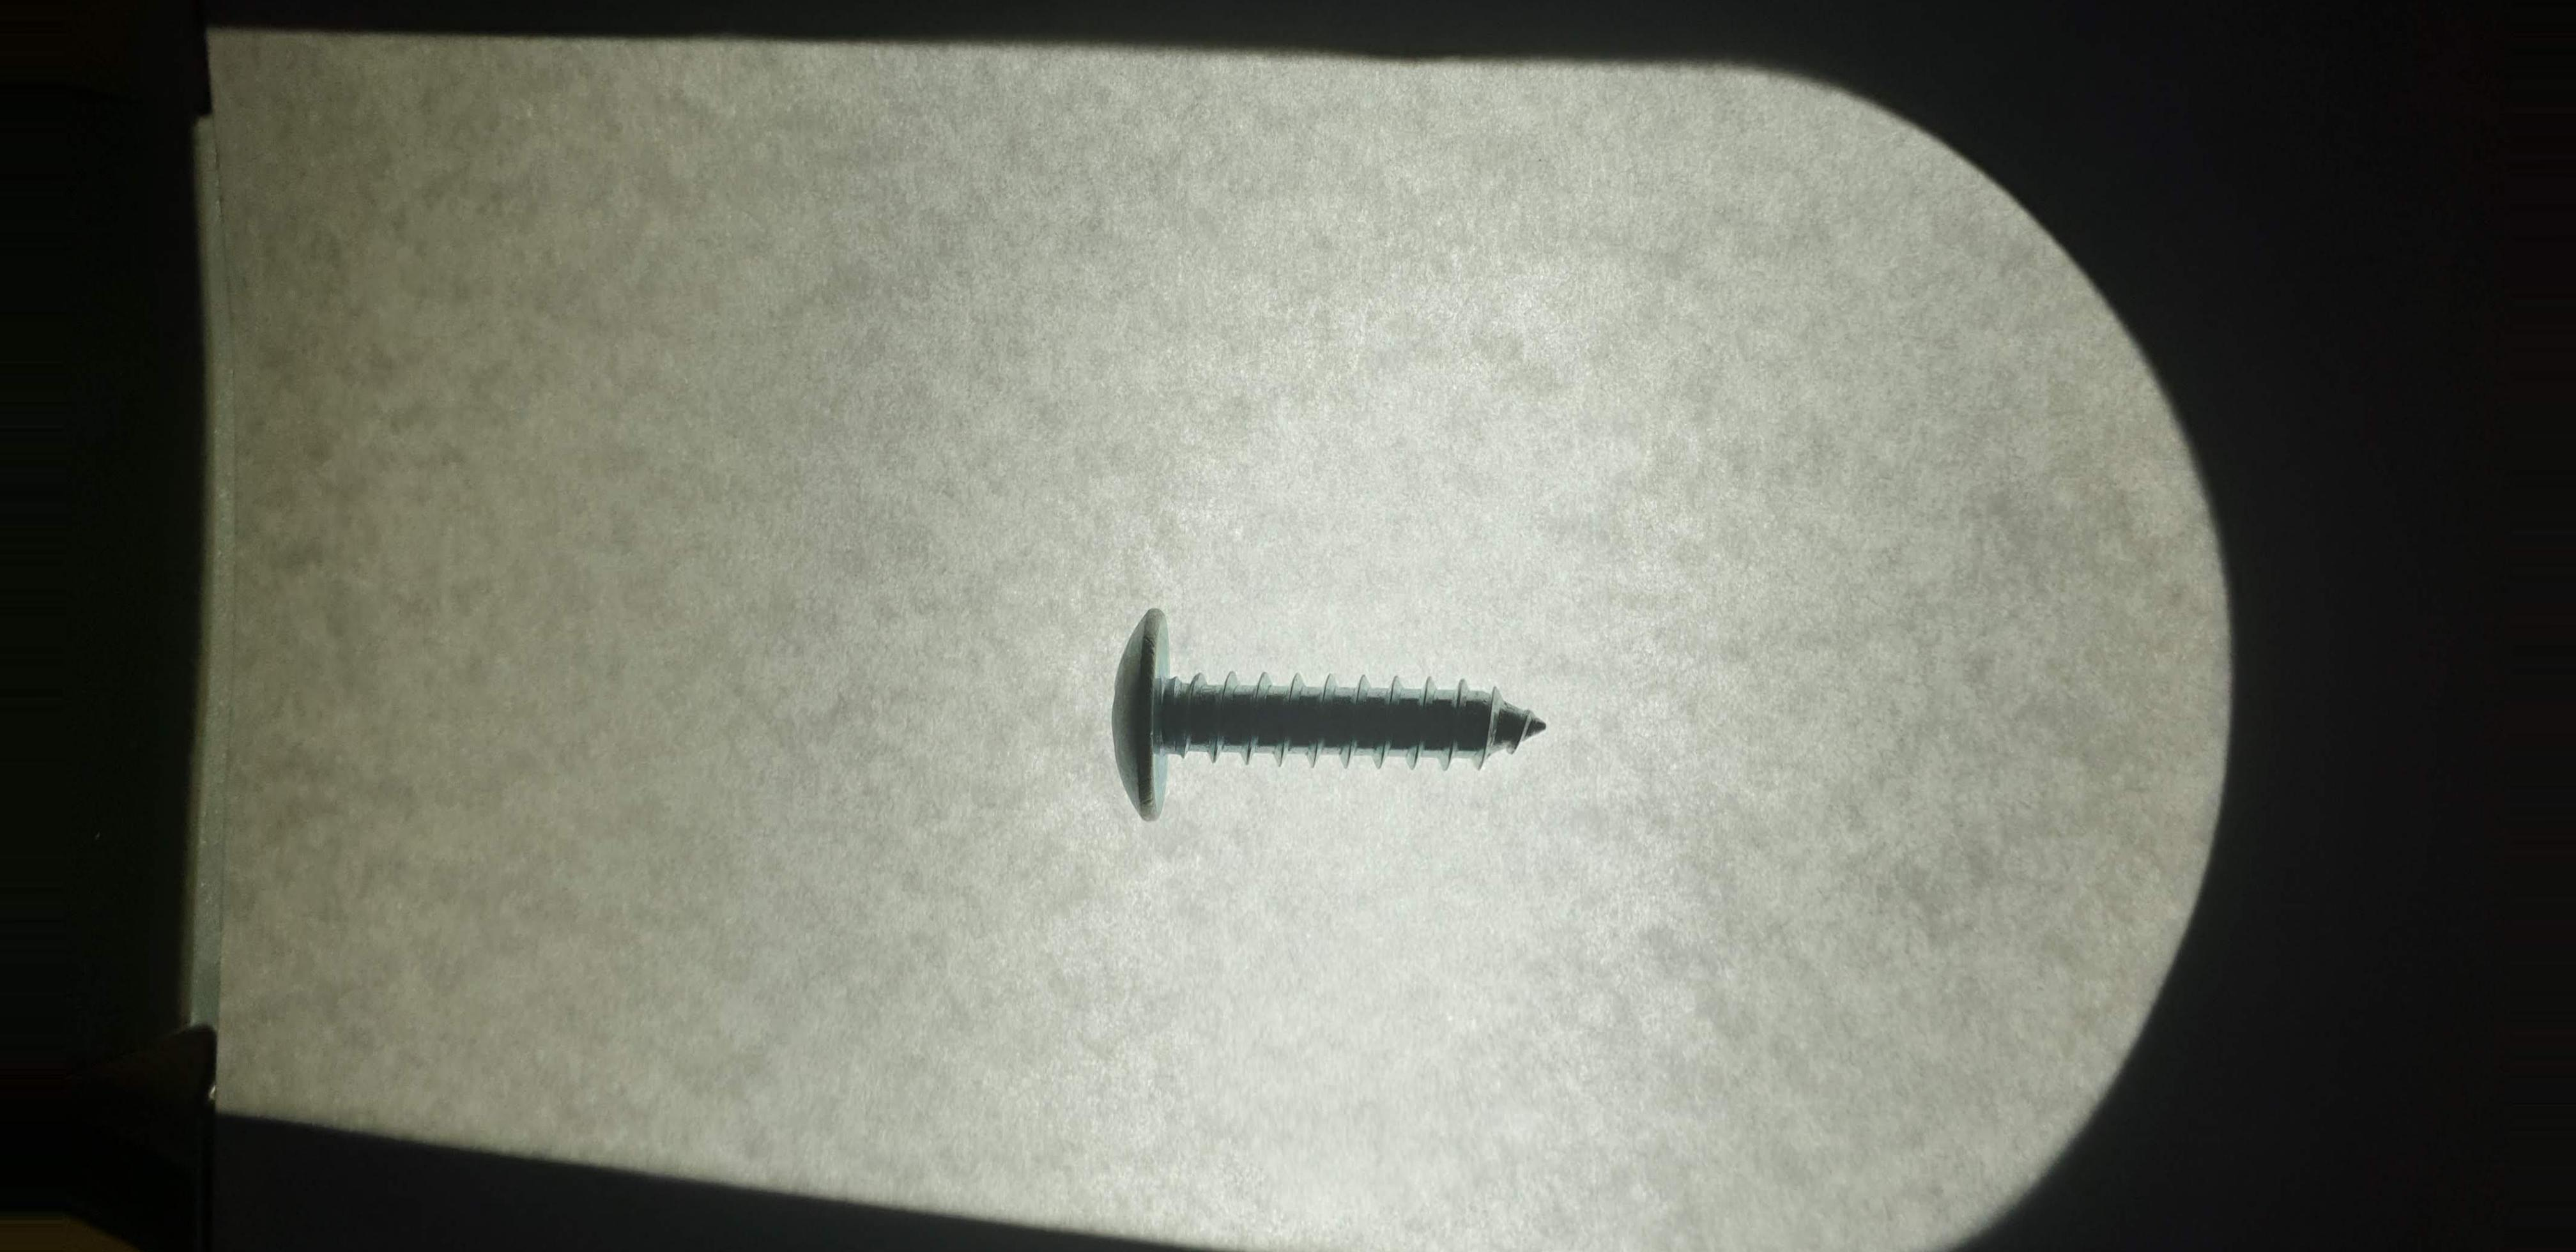S002: (1055, 565, 1612, 853)
